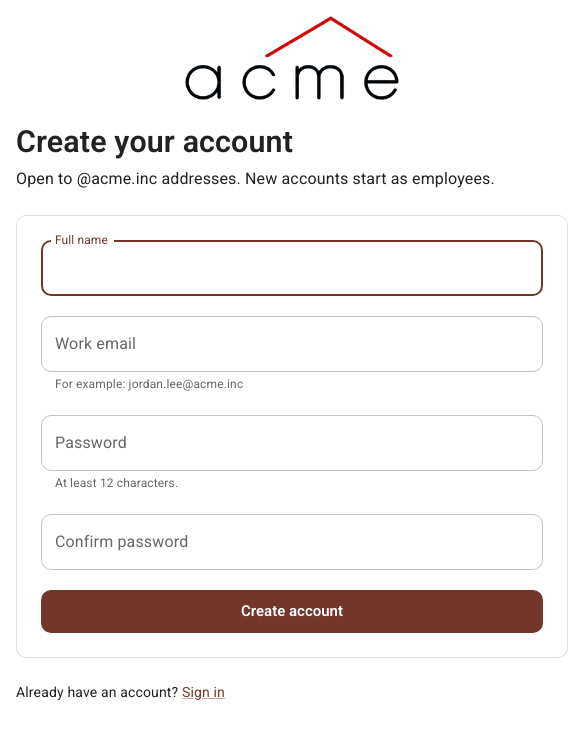
it: RegisterPage › refuses two passwords that do not match
The image size is (585, 739).
Type "Jordan Lee" into the field labelled "Full name".
click(292, 268); type("Jordan Lee")  # box left=41, top=240, right=543, bottom=296
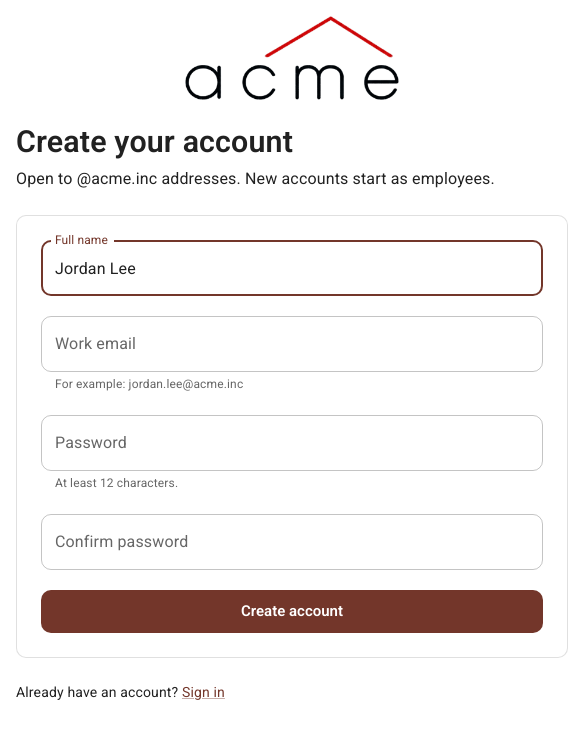
Type "jordan.lee@acme.inc" into the field labelled "Work email".
click(292, 344); type("jordan.lee@acme.inc")  # box left=41, top=316, right=543, bottom=372
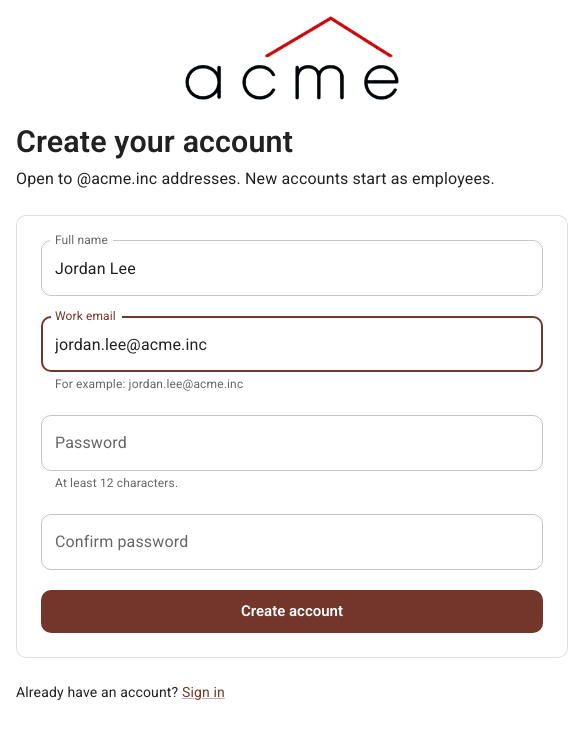
Type "correct horse battery" into the password field labelled "Password".
click(292, 443); type("correct horse battery")  # box left=41, top=415, right=543, bottom=471
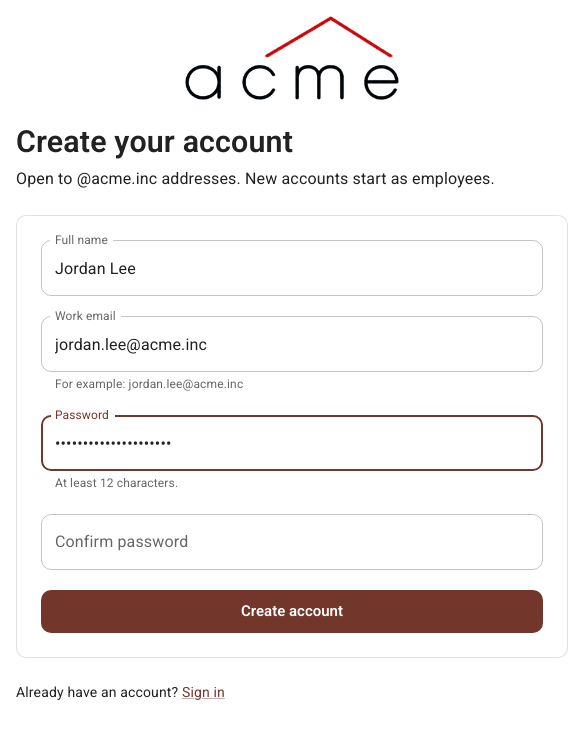
Type "a different password" into the password field labelled "Confirm password".
click(292, 542); type("a different password")  # box left=41, top=514, right=543, bottom=570
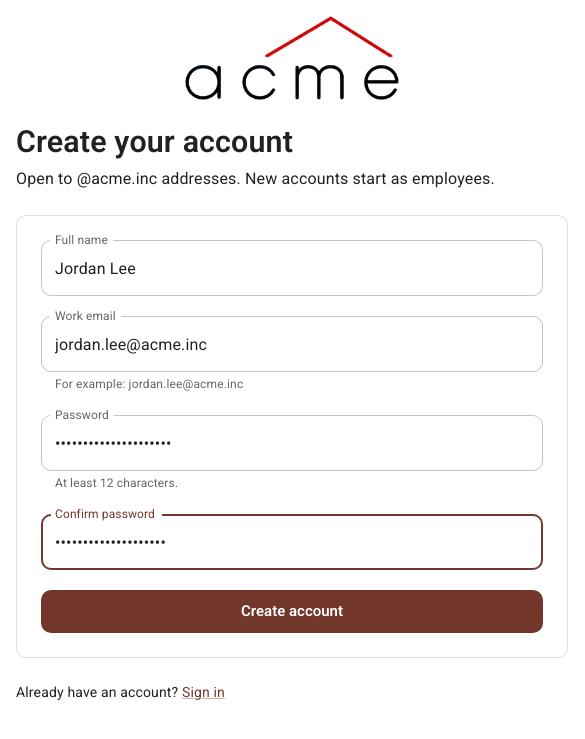
Click the button "Create account".
click(292, 611)  # box left=41, top=590, right=543, bottom=633
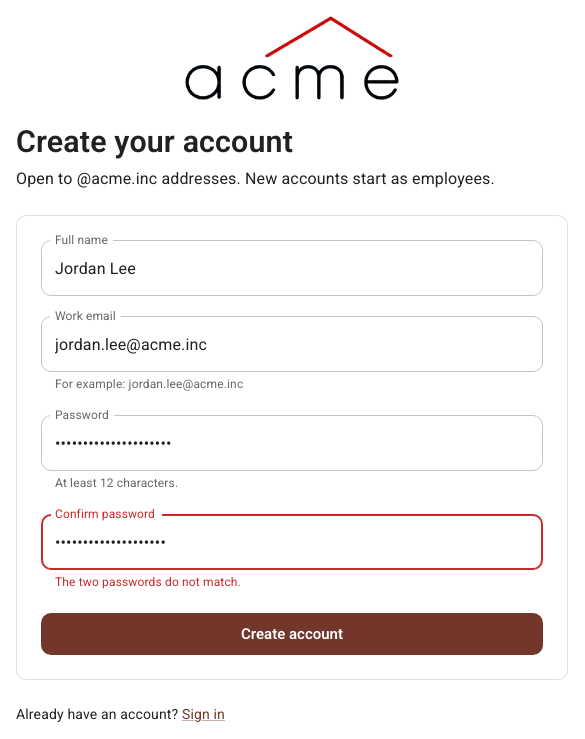
expect the text "The two passwords do not match." is shown: met, box left=55, top=575, right=241, bottom=589
